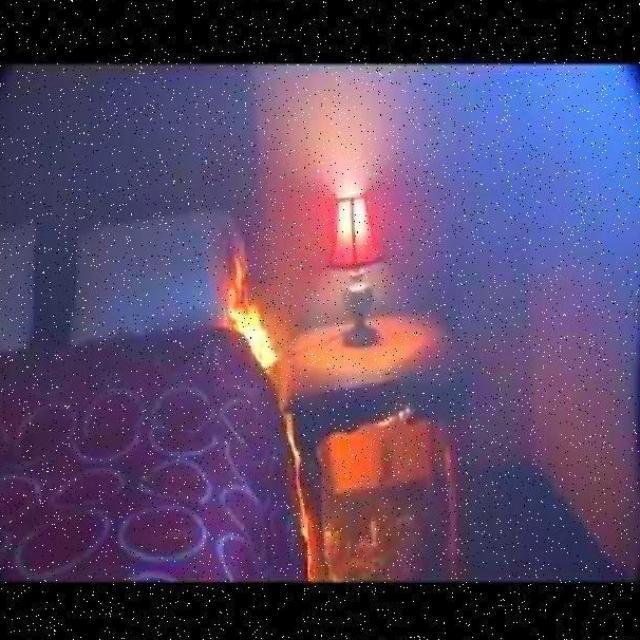smoke: (224, 284, 282, 377)
